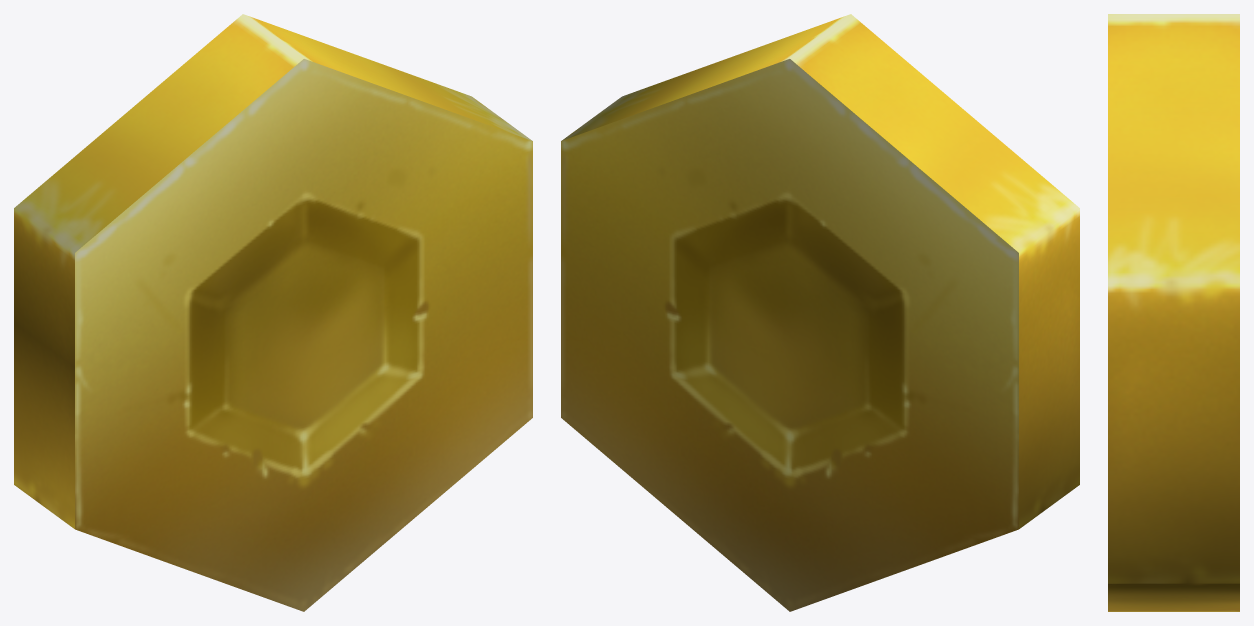
File: Coin.FBX
3 renders of one model, left to right at view 1: azimuth 30°, elevation 25°; view 2: azimuth 150°, elevation 25°; view 3: azimuth 270°, elevation 25°, orthographic. The views are drawn at different scales.
Visible parts, largest first — view 1: Coin; view 2: Coin; view 3: Coin.
Part boxes in pixels (bbox=[...]): Coin: bbox=[14, 14, 532, 611]; Coin: bbox=[561, 14, 1079, 611]; Coin: bbox=[1108, 14, 1239, 611].
Bounding box in the file's own units: 34.64 × 40 × 8.
